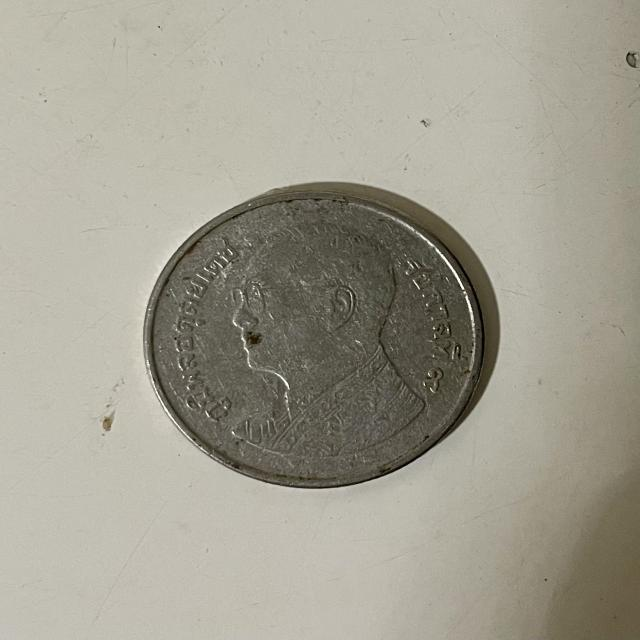1 Bath: (138, 185, 495, 498)
